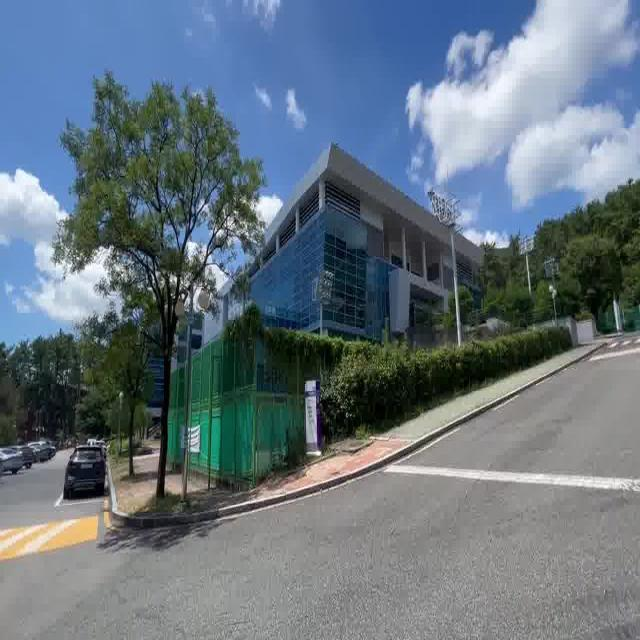building: (278, 132, 443, 341)
